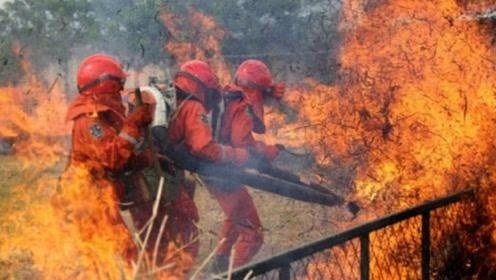fire: (0, 46, 154, 267)
